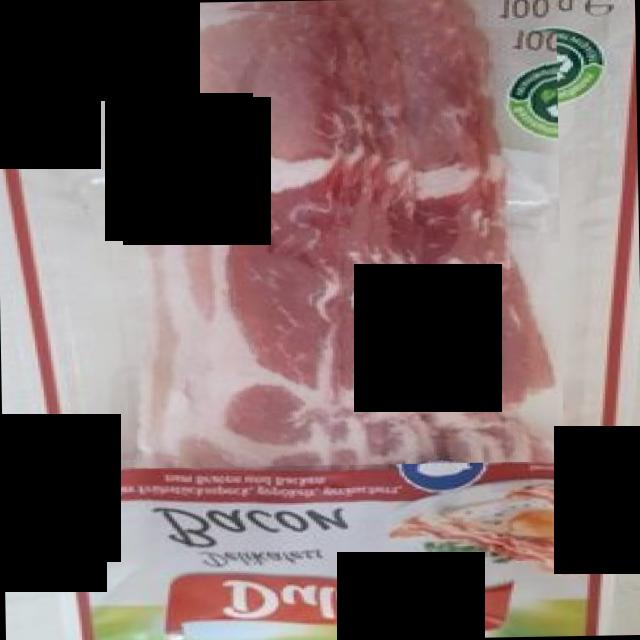bacon: (120, 0, 563, 468)
